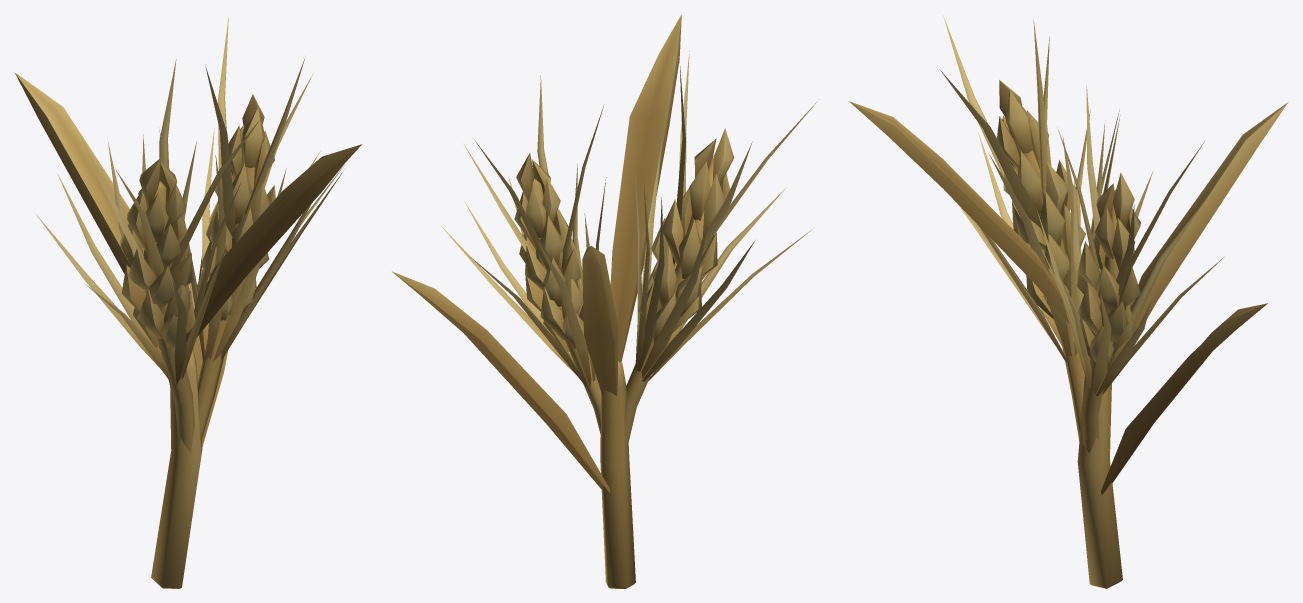
The model's file is SM_Barley_A.fbx.
The picture shows the model from 3 angles, left to right: view 1: azimuth 30°, elevation 25°; view 2: azimuth 150°, elevation 25°; view 3: azimuth 270°, elevation 25°; orthographic projection. The views are drawn at different scales.
Visible parts, largest first — view 1: SM_Barley_A; view 2: SM_Barley_A; view 3: SM_Barley_A.
Boxes of the visible parts, <box> form: SM_Barley_A: <box>14,17,362,588</box>; SM_Barley_A: <box>392,15,816,588</box>; SM_Barley_A: <box>849,15,1288,588</box>.
Bounding box in the file's own units: 13.54 × 22.28 × 16.09.
